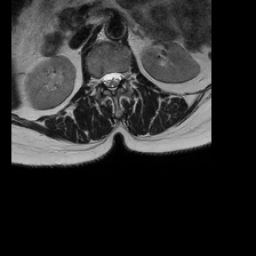CCS_normal: (108, 67, 114, 96)
LFS_normal: (121, 66, 127, 84)
LLS_normal: (114, 66, 121, 91)
RFS_normal: (96, 68, 102, 91)
RLS_normal: (102, 68, 108, 91)
